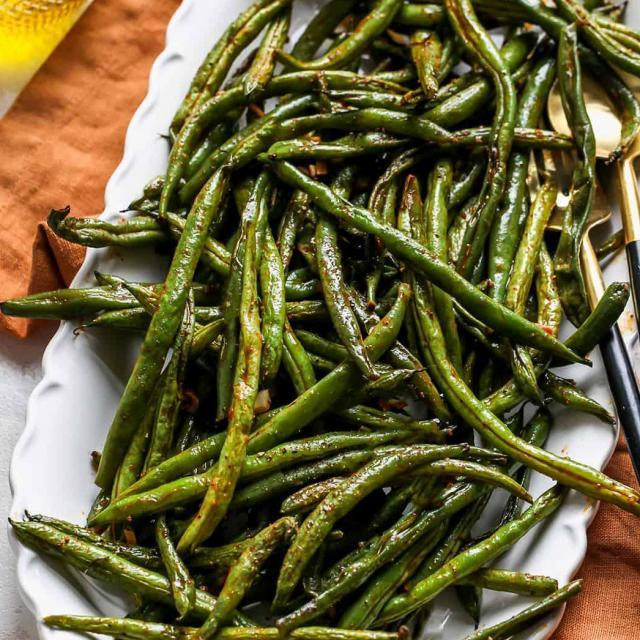Beans: (5, 0, 639, 639)
